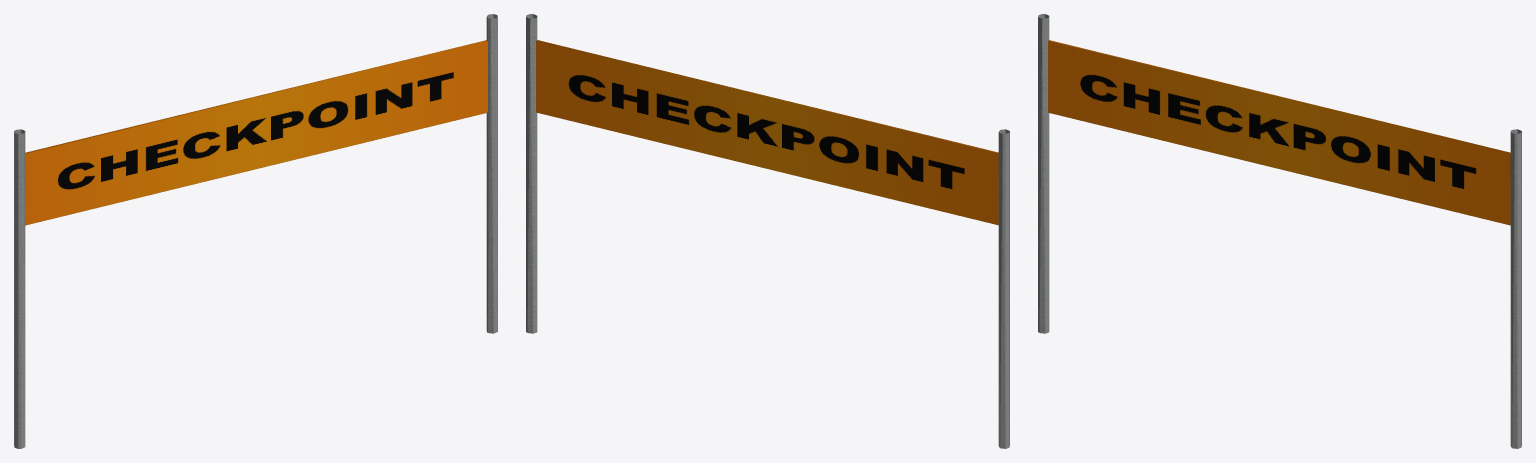
The model's file is checkPoint2.FBX.
3 renders of one model, left to right at view 1: azimuth 30°, elevation 25°; view 2: azimuth 150°, elevation 25°; view 3: azimuth 330°, elevation 25°, orthographic.
Parts seen in each view (by area): view 1: ID31; view 2: ID31; view 3: ID31.
Boxes of the visible parts, <box> form: ID31: <box>14,14,497,448</box>; ID31: <box>526,14,1009,448</box>; ID31: <box>1038,14,1521,448</box>.
Size of the model in its own units: 5.31 by 3.31 by 0.1073.
